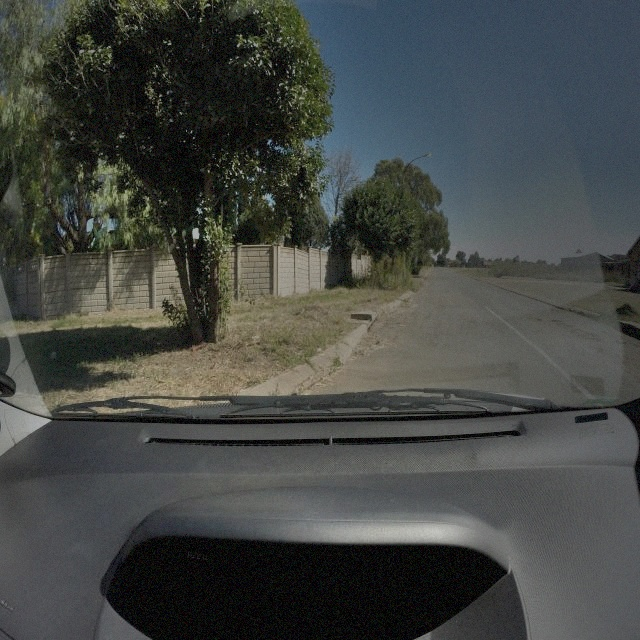pothole: (535, 317, 543, 324), (552, 319, 562, 324)
